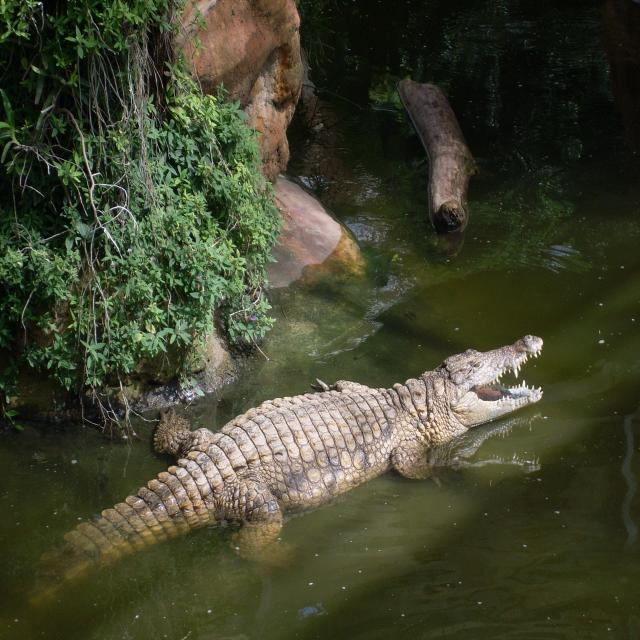crocodile: (37, 323, 551, 602)
